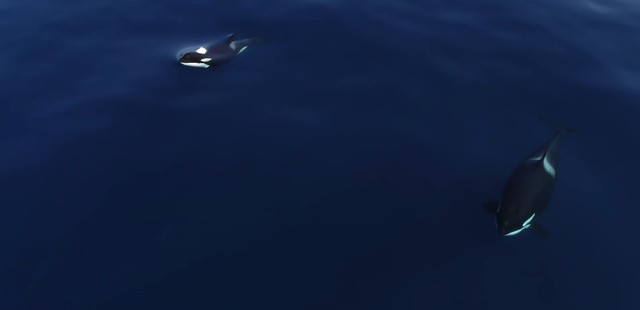whale: (480, 106, 583, 250), (175, 19, 277, 74)
